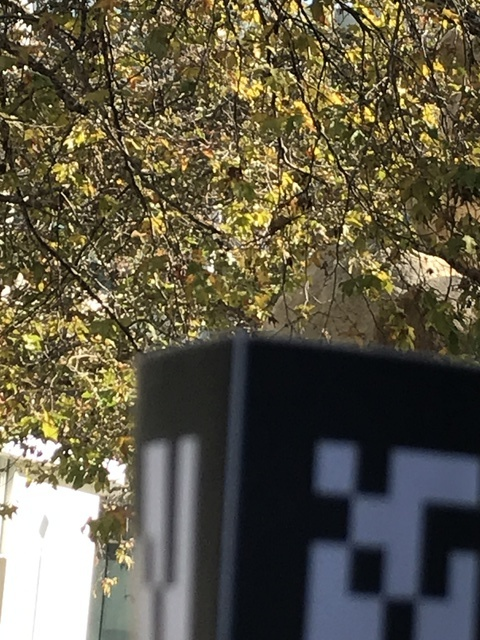ARTag: (132, 333, 479, 640)
